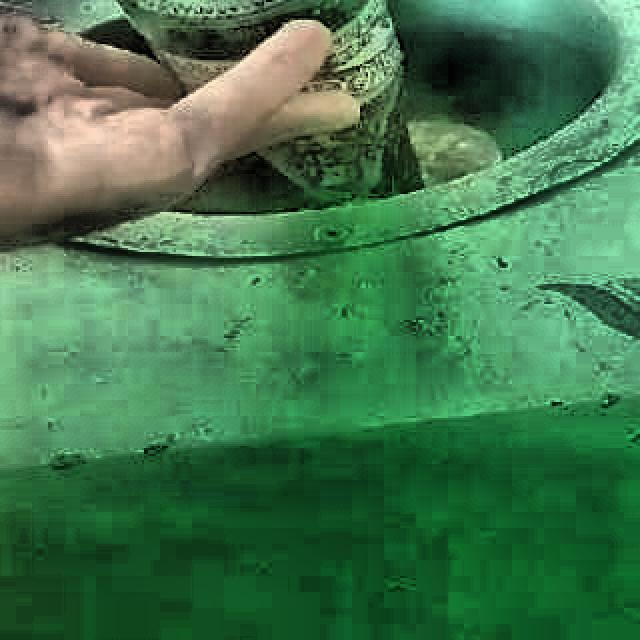glass: (118, 0, 421, 199)
